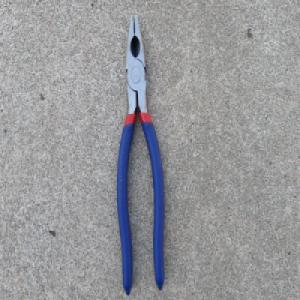Pliers: (115, 13, 165, 295)
